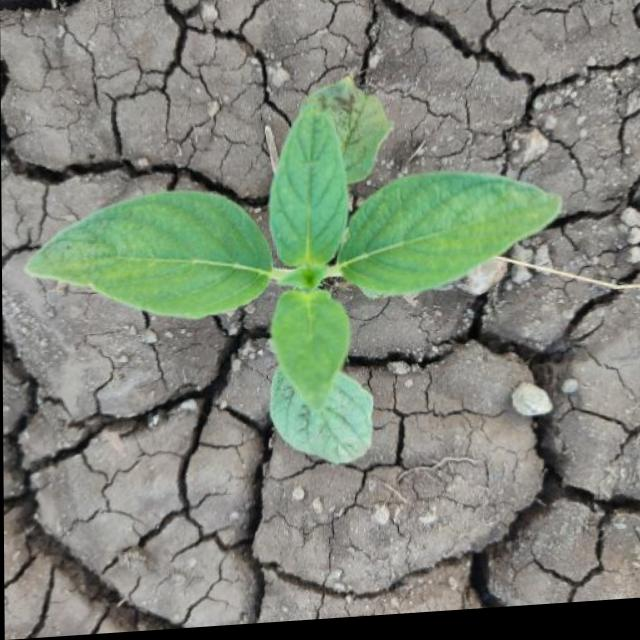crop: (36, 44, 576, 498)
